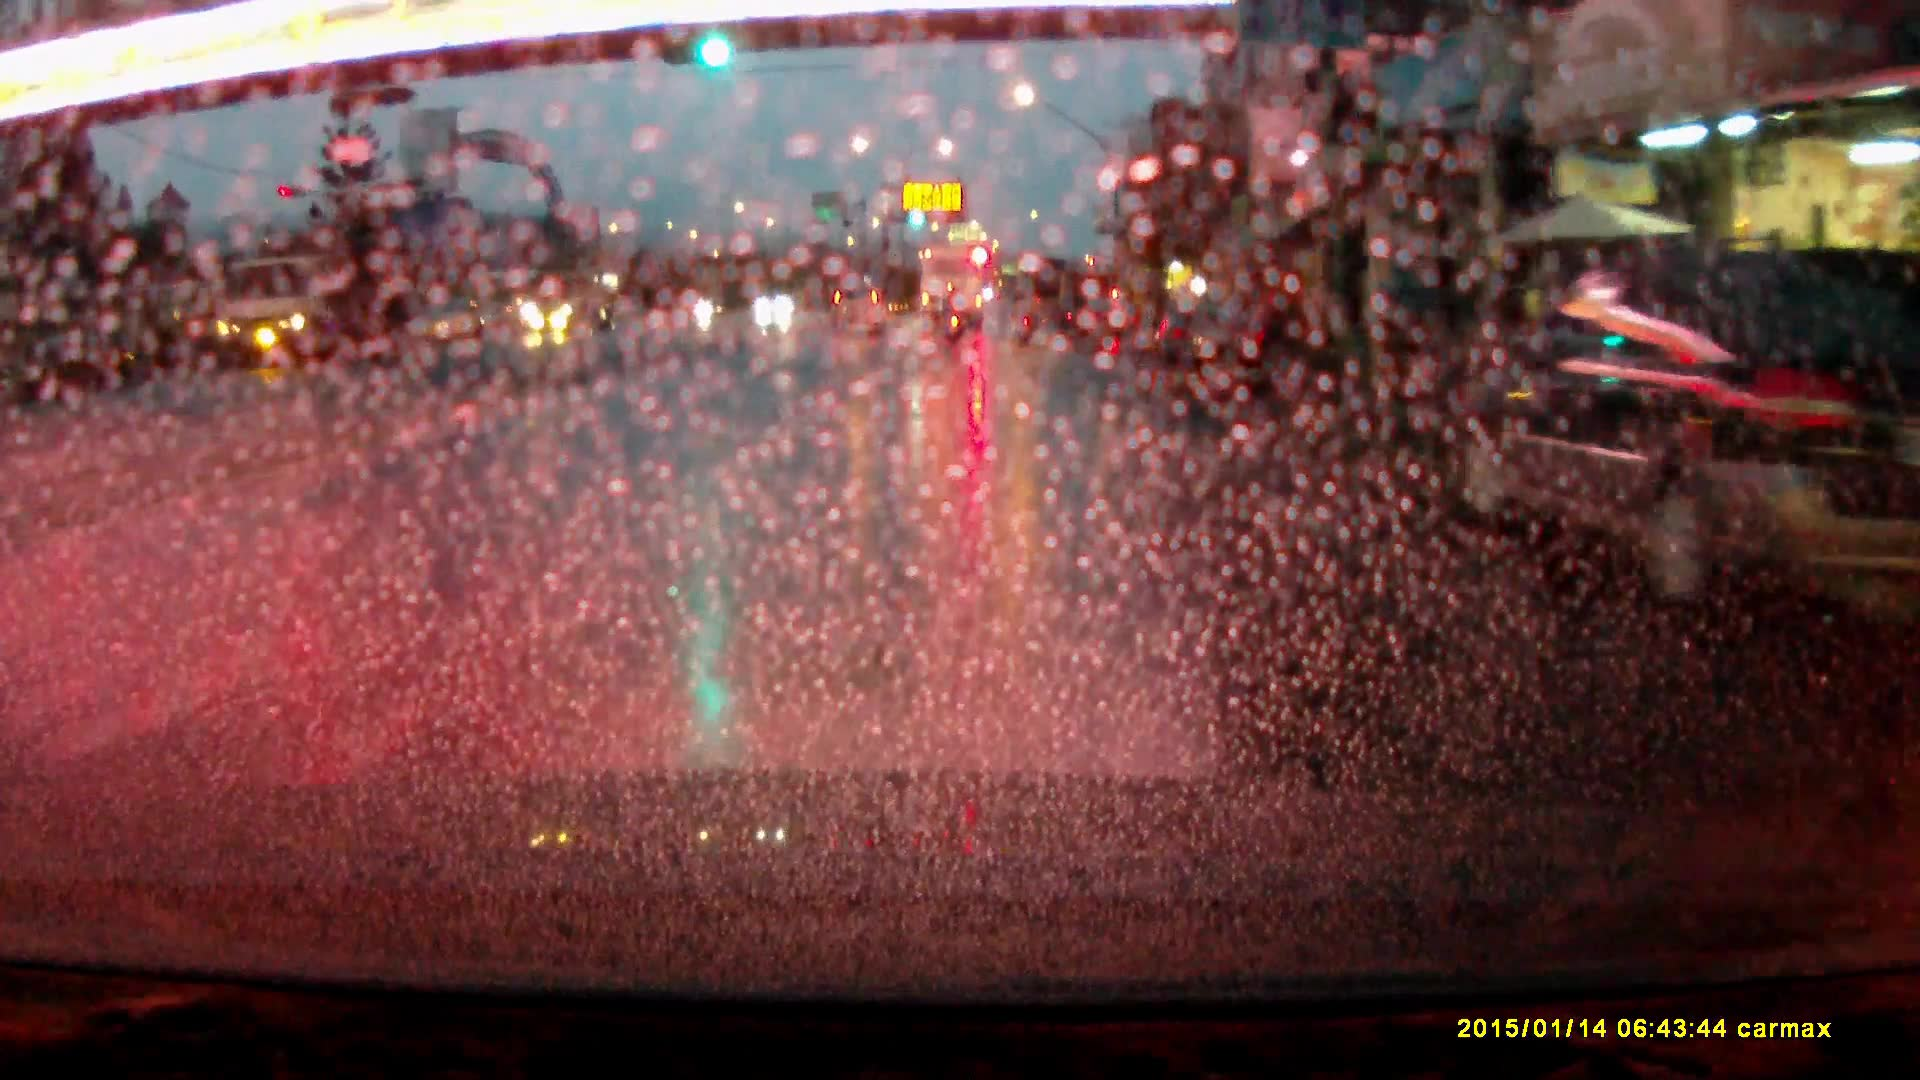rider: (944, 285, 967, 339)
vehicle: (1455, 244, 1892, 622), (210, 252, 398, 362), (1148, 306, 1265, 394), (525, 262, 616, 335), (919, 239, 985, 330), (1073, 298, 1140, 353), (829, 277, 885, 324)
